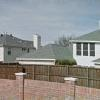Chimney: (27, 25, 45, 54)
